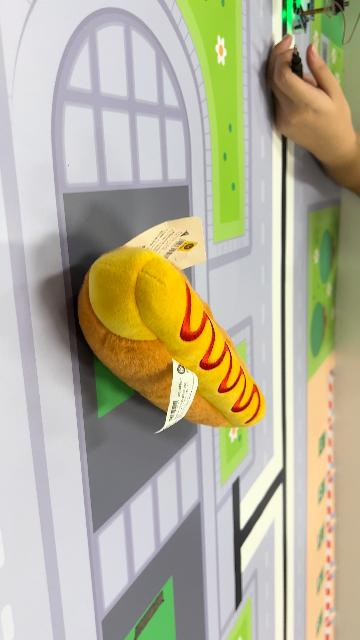hotdog: (78, 244, 268, 432)
